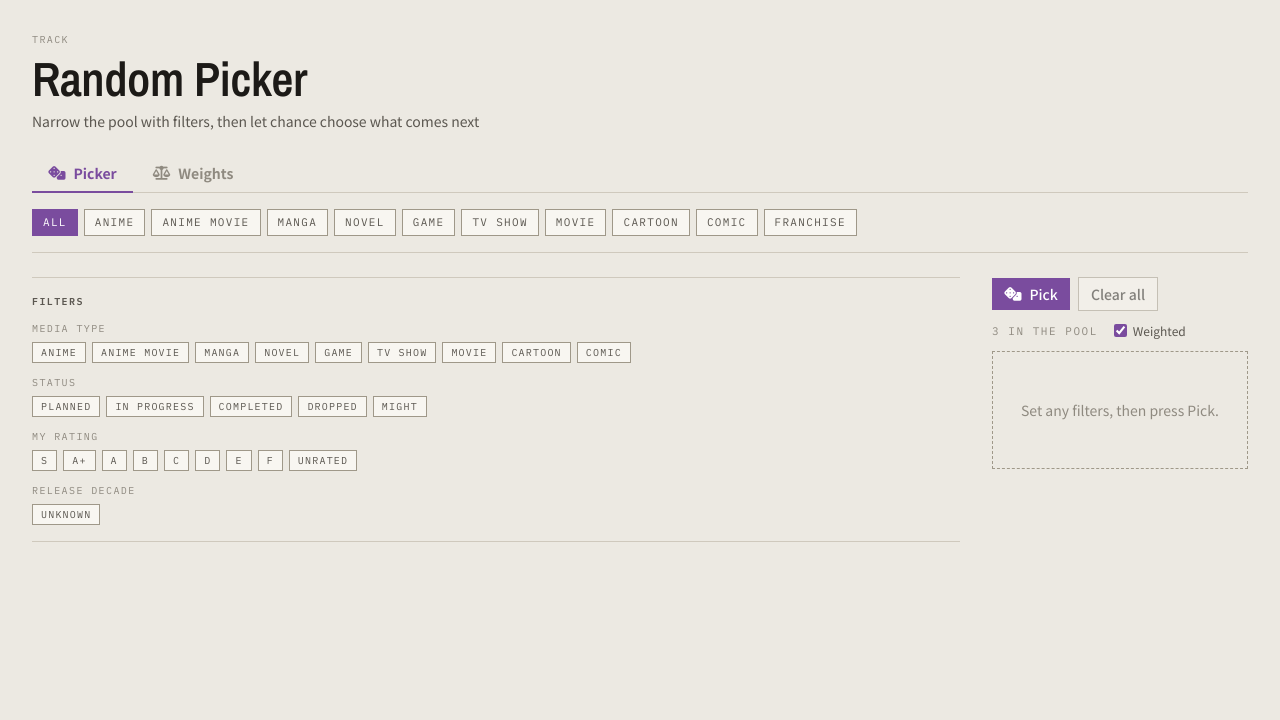
Test: draws across types in the general mode, narrowed by media type
The width and height of the screenshot is (1280, 720).
Check: the text "3 in the pool" is shown, box [992,322,1098,339]
# The chip, not the mode link of the same name.
Click the button "Manga" at point(222, 352), box [195,342,249,362]
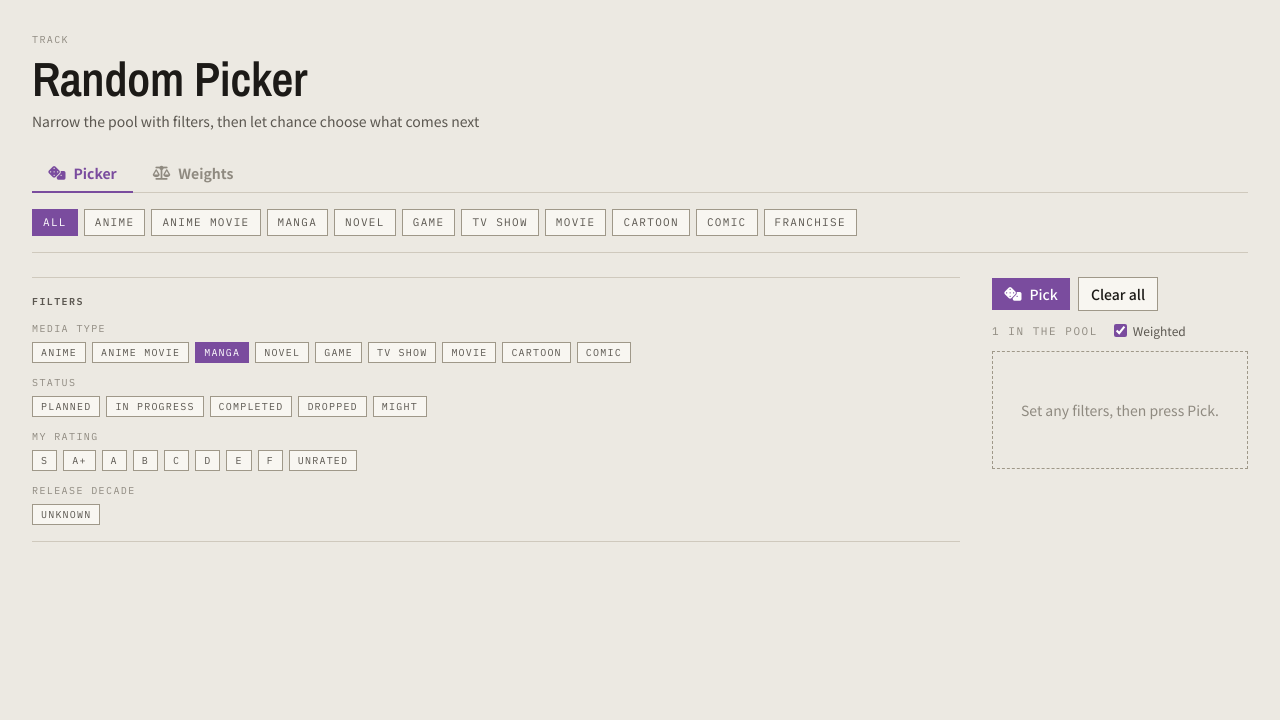
Check: the text "1 in the pool" is shown, box [992,322,1098,339]
Click the button "Pick" at point(1031, 294), box [992,278,1070,310]
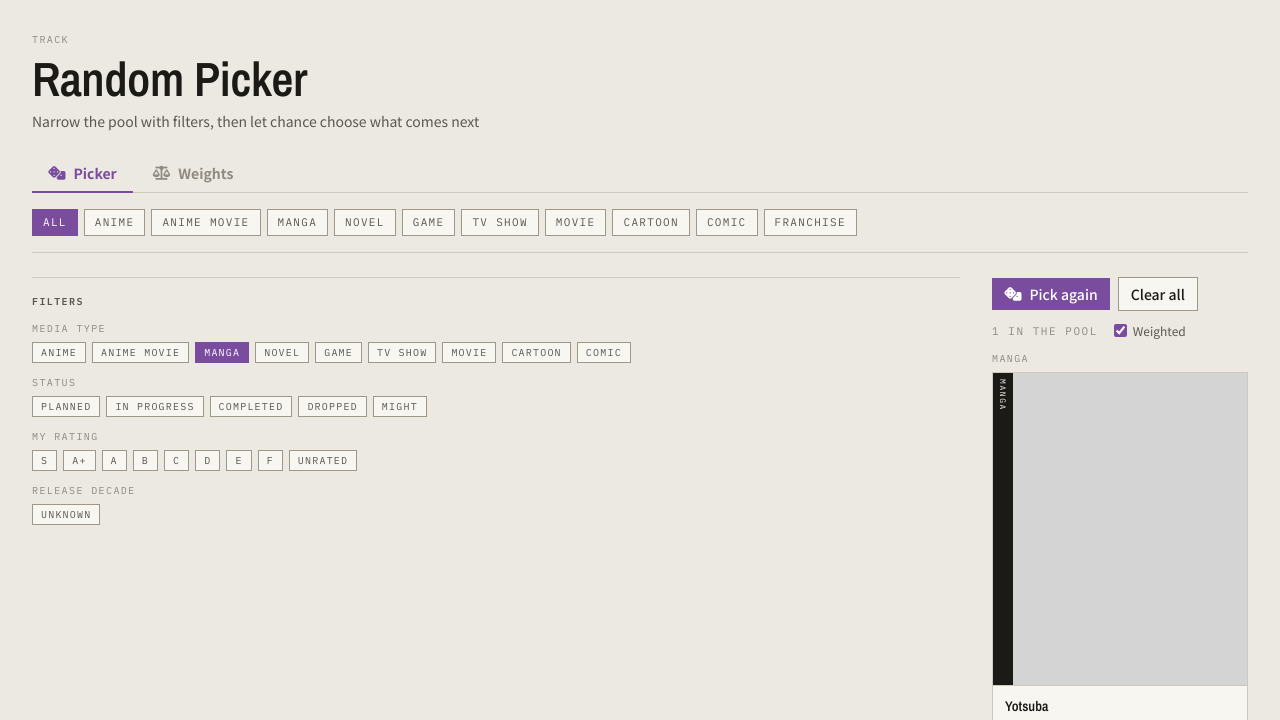
Check: the link "Yotsuba" is shown, box [1005,698,1048,715]
